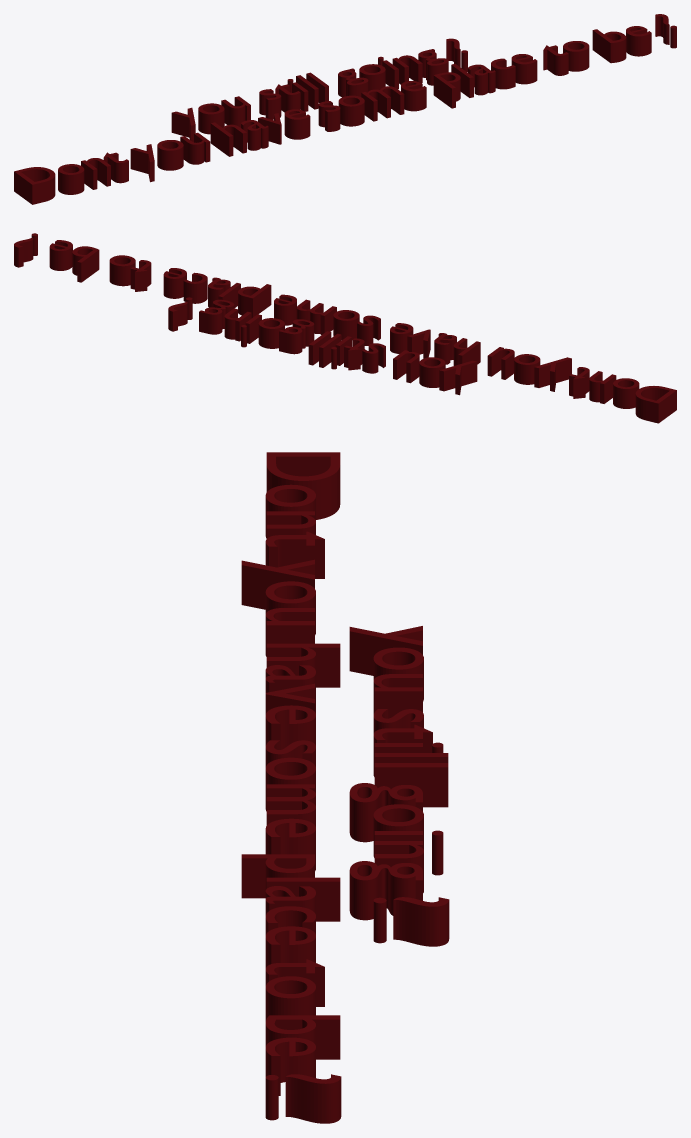
File: YouStillGoing.fbx
The picture shows the model from 3 angles, top to bottom: view 1: azimuth 30°, elevation 25°; view 2: azimuth 150°, elevation 25°; view 3: azimuth 270°, elevation 25°; orthographic projection. The views are drawn at different scales.
Parts seen in each view (by area): view 1: Text; view 2: Text; view 3: Text.
Part boxes in pixels (bbox=[...]): Text: bbox=[14, 14, 676, 204]; Text: bbox=[14, 233, 676, 423]; Text: bbox=[241, 452, 449, 1123].
Bounding box in the file's own units: 1593 × 47 × 221.
